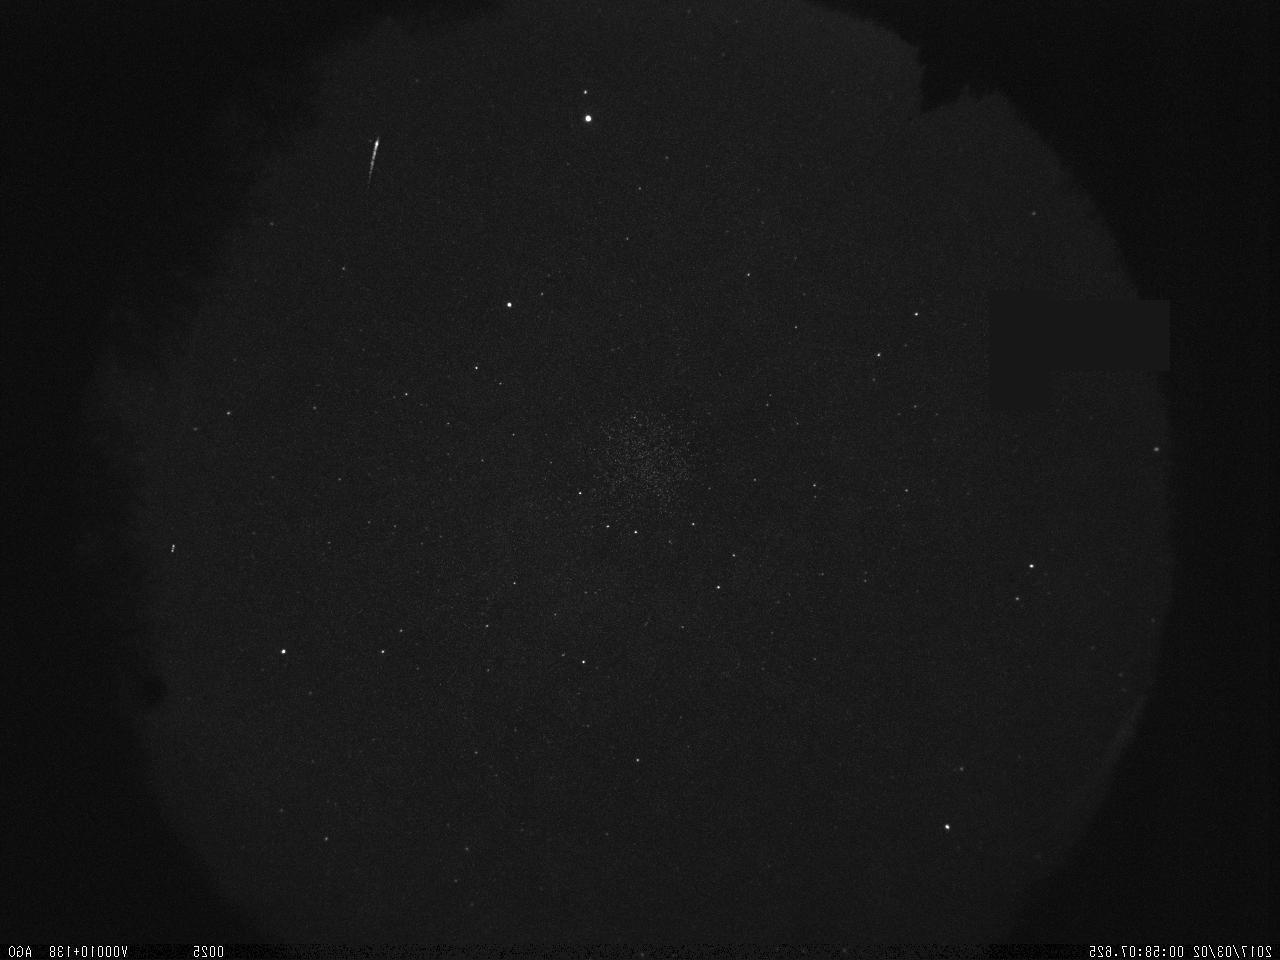meteor: (352, 133, 389, 199)
